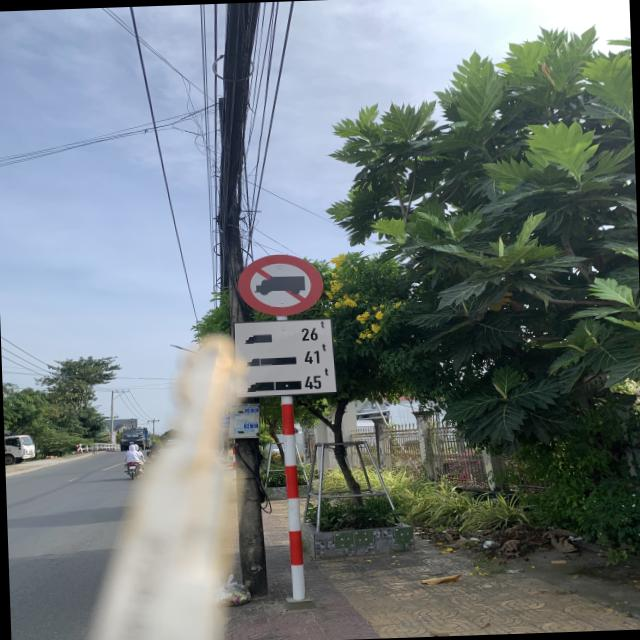Cam_Xe_Tai: (236, 250, 324, 316)
